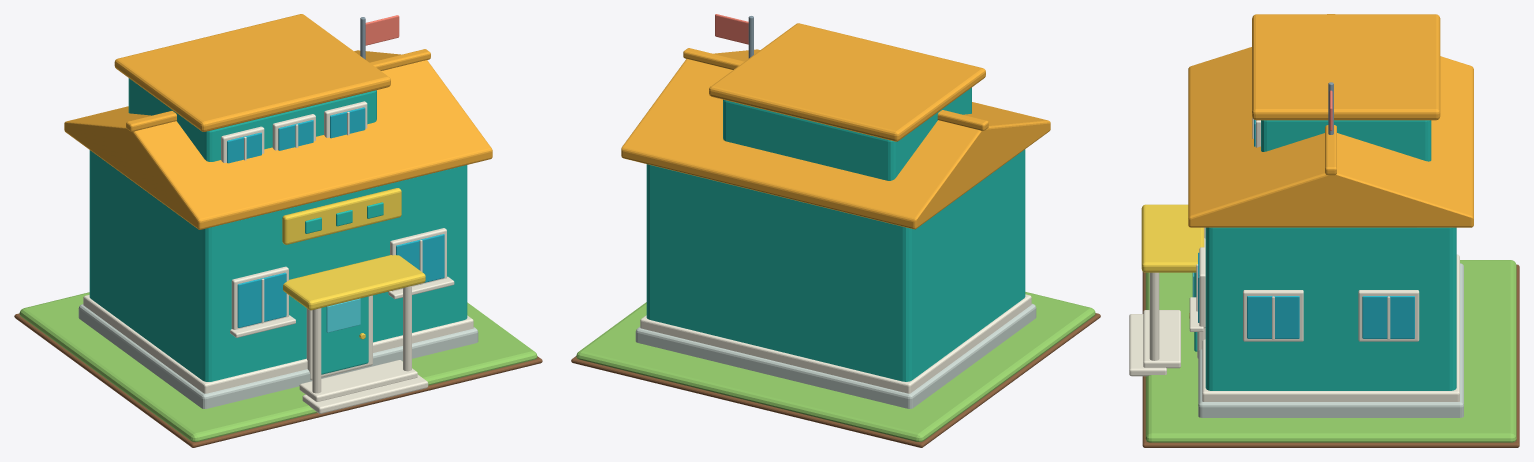
The picture shows the model from 3 angles, left to right: view 1: azimuth 30°, elevation 25°; view 2: azimuth 150°, elevation 25°; view 3: azimuth 270°, elevation 25°; orthographic projection. The views are drawn at different scales.
Visible parts, largest first — view 1: Main building volume.003, Solid pitched roof.005, HQ upper roof, Beveled site foundation.009, Stone building plinth.003, Entrance canopy.004, HQ upper storey, Wall base course.003, Company sign board.001, Foundation shadow course.009, Door leaf.004, Porch step.007 (+15 smaller); view 2: Main building volume.003, Solid pitched roof.005, HQ upper roof, Beveled site foundation.009, HQ upper storey, Stone building plinth.003, Wall base course.003, Foundation shadow course.009, Roof ridge cap.005, Company flag; view 3: Main building volume.003, Solid pitched roof.005, Beveled site foundation.009, HQ upper roof, Stone building plinth.003, HQ upper storey, Entrance canopy.004, Wall base course.003, Foundation shadow course.009, Side glass.019, Side glass.018, Porch step.007 (+6 smaller).
Boxes of the visible parts, x1,y1,x2,y2 form: Main building volume.003: [89, 150, 467, 381]; Solid pitched roof.005: [64, 50, 492, 229]; HQ upper roof: [114, 14, 390, 131]; Beveled site foundation.009: [19, 292, 537, 442]; Stone building plinth.003: [78, 304, 478, 408]; Entrance canopy.004: [283, 255, 425, 310]; HQ upper storey: [128, 78, 376, 161]; Wall base course.003: [83, 294, 473, 393]; Company sign board.001: [282, 188, 401, 244]; Foundation shadow course.009: [14, 313, 542, 447]; Door leaf.004: [321, 296, 368, 374]; Porch step.007: [299, 360, 417, 401]; Main building volume.003: [646, 149, 1025, 381]; Solid pitched roof.005: [621, 49, 1050, 229]; HQ upper roof: [709, 23, 985, 141]; Beveled site foundation.009: [576, 292, 1095, 441]; HQ upper storey: [723, 87, 971, 180]; Stone building plinth.003: [635, 303, 1036, 408]; Wall base course.003: [640, 294, 1031, 393]; Foundation shadow course.009: [571, 313, 1100, 447]; Roof ridge cap.005: [683, 48, 988, 130]; Company flag: [715, 14, 748, 44]; Main building volume.003: [1205, 227, 1456, 390]; Solid pitched roof.005: [1188, 47, 1473, 227]; Beveled site foundation.009: [1145, 260, 1516, 442]; HQ upper roof: [1252, 14, 1440, 120]; Stone building plinth.003: [1198, 263, 1463, 417]; HQ upper storey: [1261, 120, 1431, 161]; Entrance canopy.004: [1141, 204, 1204, 272]; Wall base course.003: [1202, 254, 1459, 401]; Foundation shadow course.009: [1142, 264, 1519, 447]; Side glass.019: [1362, 296, 1414, 338]; Side glass.018: [1247, 296, 1299, 338]; Porch step.007: [1143, 310, 1180, 368].
Bounding box in the file's own units: 8.52 × 7.02 × 7.79.
